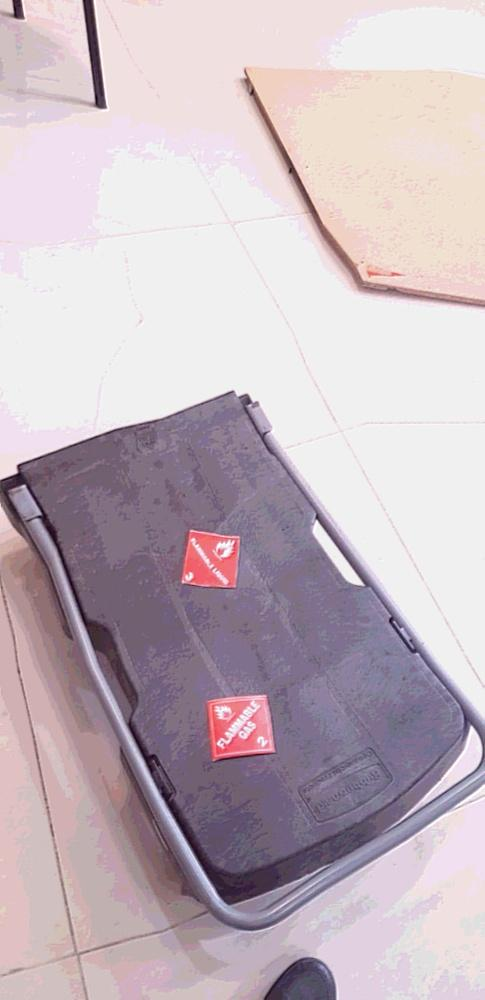flammable: (207, 694, 276, 760), (178, 528, 242, 592)
